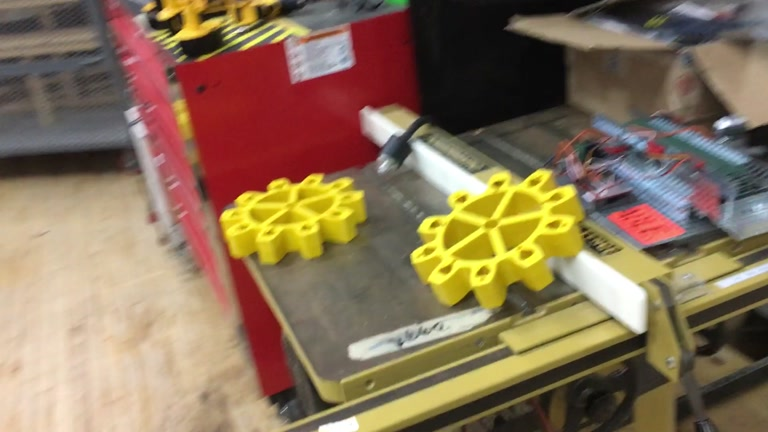gear: (409, 168, 586, 310), (219, 172, 367, 266)
